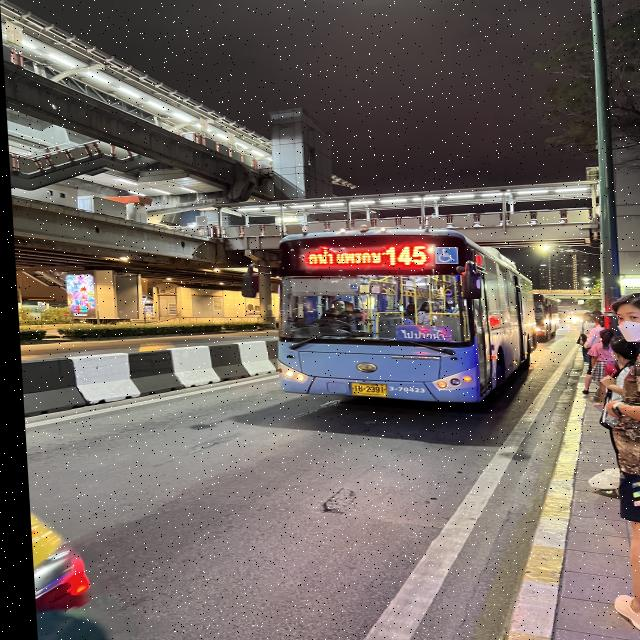BMTA-bus: (272, 228, 532, 408)
Bus Line Number: (379, 243, 427, 267)
Bus Side Number: (381, 380, 426, 395)
Destination Sign: (393, 325, 449, 343)
